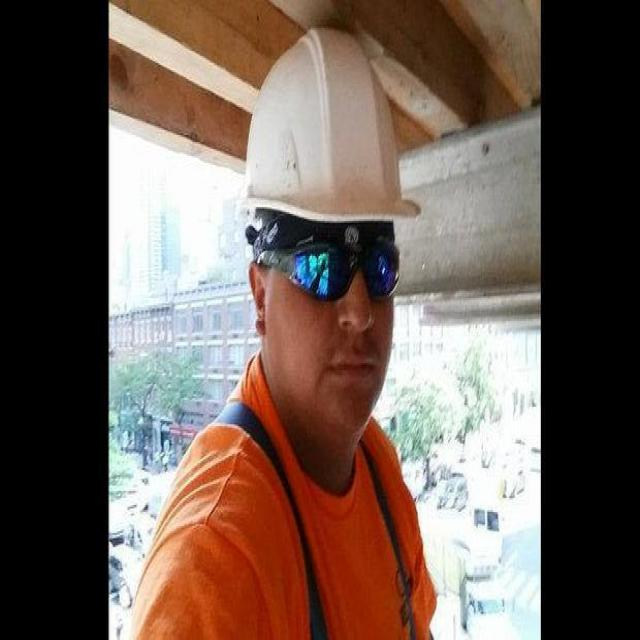hat: (242, 26, 423, 220)
